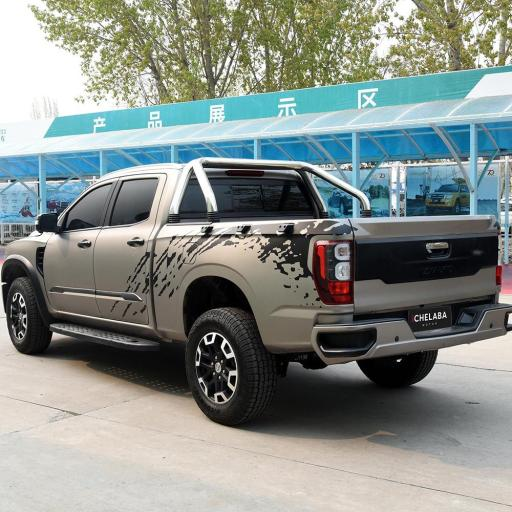pickup: (5, 157, 512, 426)
